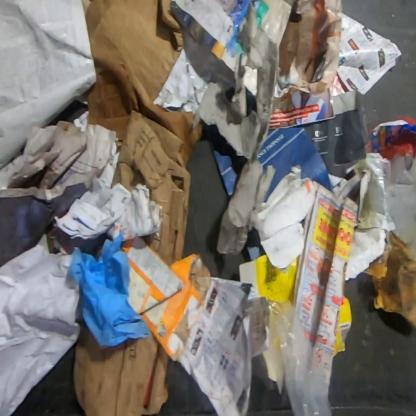cardboard: (82, 0, 203, 164), (121, 109, 192, 267), (122, 236, 209, 361), (72, 319, 170, 416), (362, 234, 416, 331), (239, 254, 301, 301), (332, 295, 352, 358)
soft_plastic: (264, 297, 332, 416), (387, 151, 415, 264)
